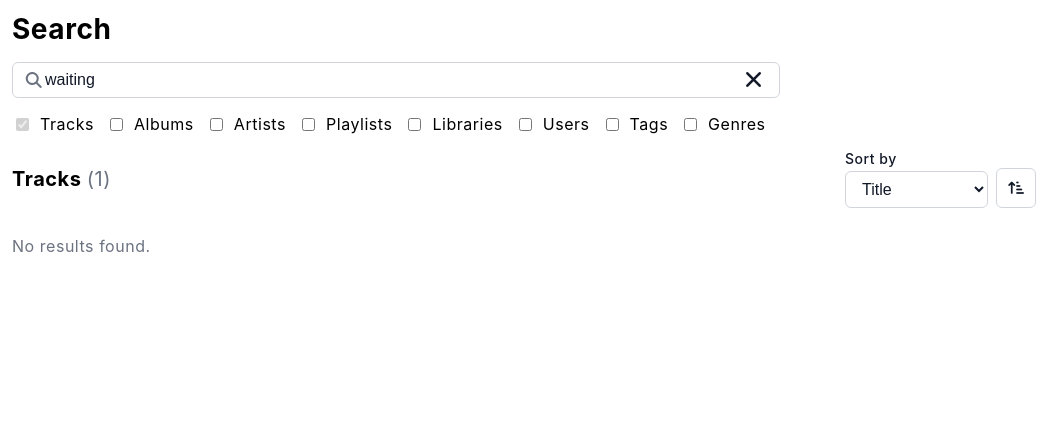
Test: SearchView › toggles entity filters while keeping at least one active
Click the checkbox labelled "Albums": [116, 124] box [110,118,123,130]
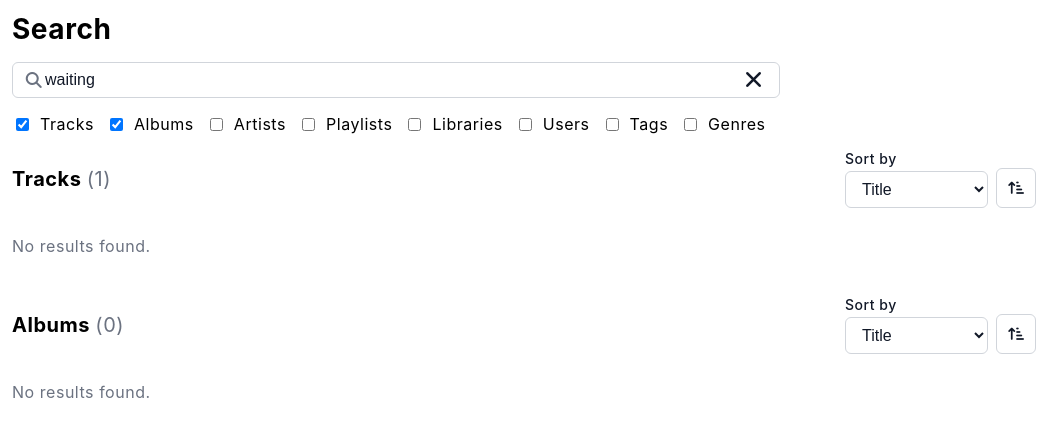
Expected: the checkbox labelled "Tracks" is checked, [16,118,29,130]
Now the number of elements with class "search-view__section" is 2, box [12,150,1036,272]; [12,296,1036,418]
